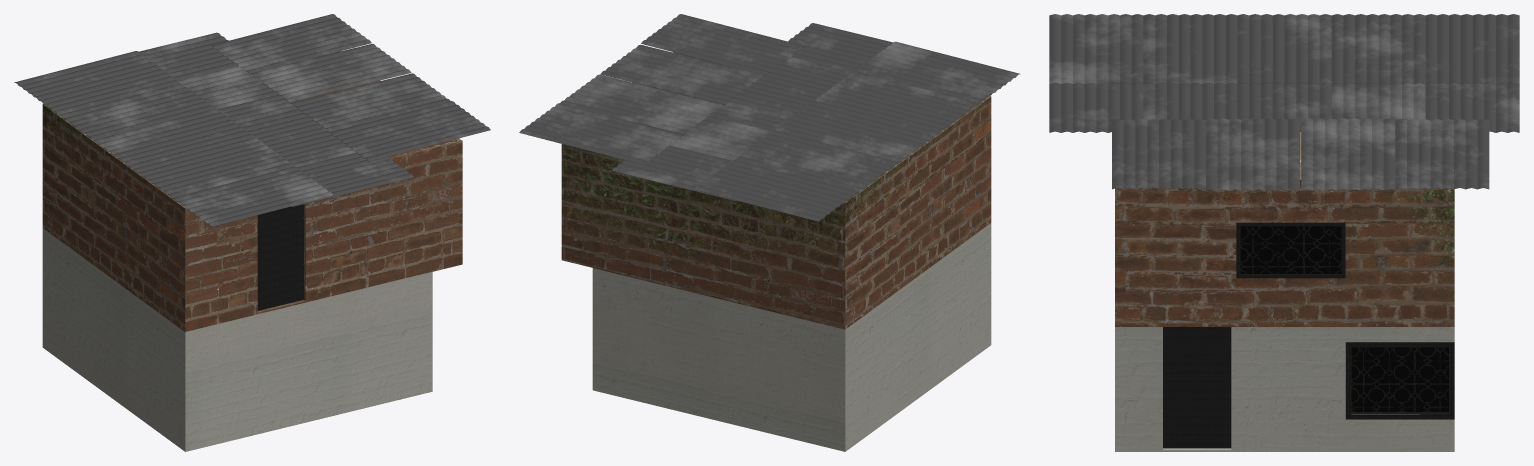
The model's file is Casa06.fbx.
The picture shows the model from 3 angles, left to right: view 1: azimuth 30°, elevation 25°; view 2: azimuth 150°, elevation 25°; view 3: azimuth 270°, elevation 25°; orthographic projection. The views are drawn at different scales.
Parts seen in each view (by area): view 1: Casa06, Techo_1.005; view 2: Casa06, Techo_1.005; view 3: Casa06, Techo_1.005.
Part boxes in pixels (left/top/right/bottom): Casa06: left=42, top=51, right=462, bottom=451; Techo_1.005: left=14, top=14, right=490, bottom=226; Casa06: left=561, top=52, right=991, bottom=451; Techo_1.005: left=519, top=14, right=1020, bottom=221; Casa06: left=1115, top=132, right=1454, bottom=451; Techo_1.005: left=1049, top=14, right=1519, bottom=190.
Bounding box in the file's own units: 3868 × 3021 × 4325.
